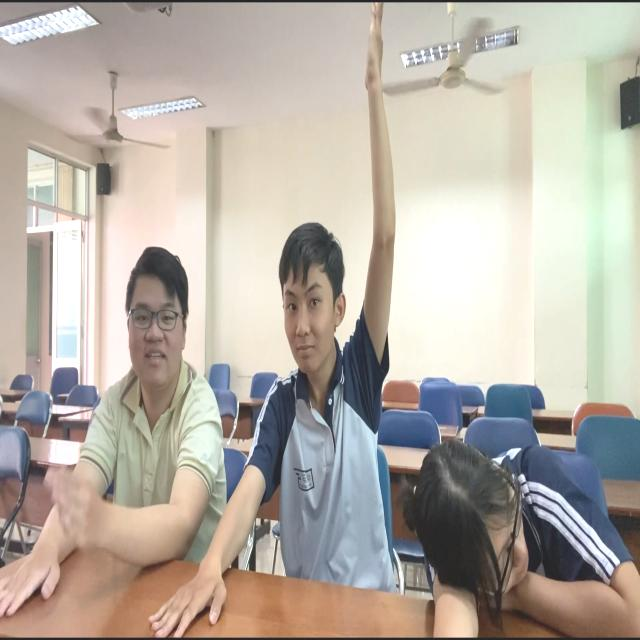sleep: (395, 307, 640, 640)
